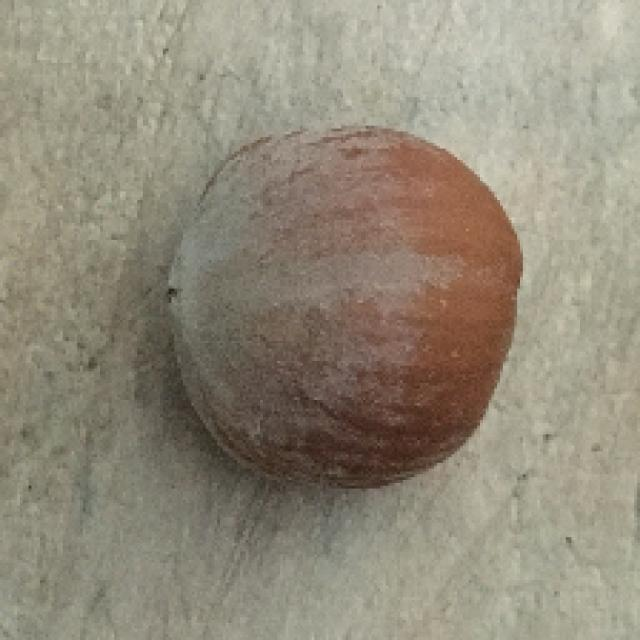qualityHazelnut: (158, 99, 526, 503)
